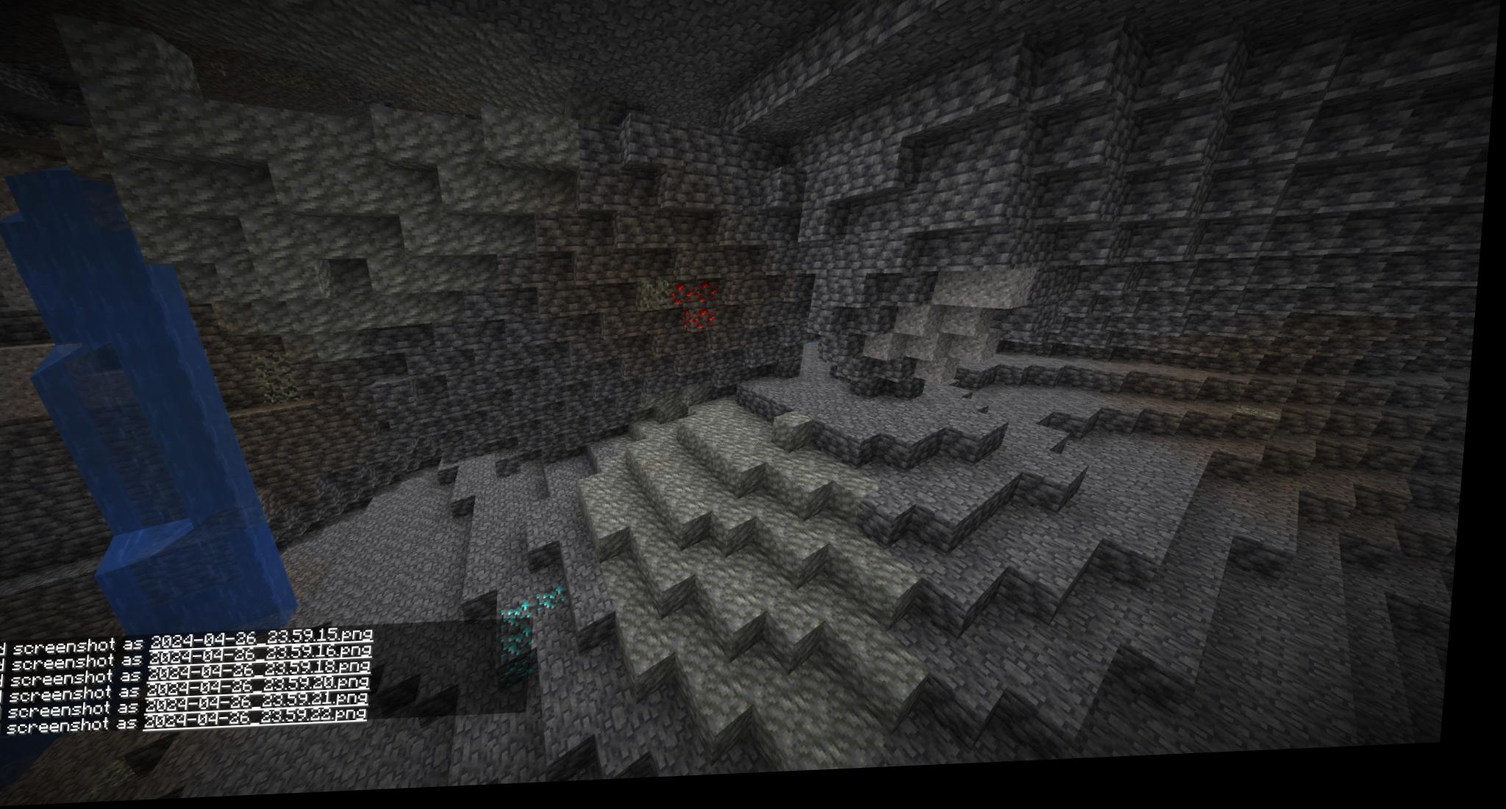diamond ore: (506, 590, 573, 686)
redstone ore: (675, 279, 726, 346)
